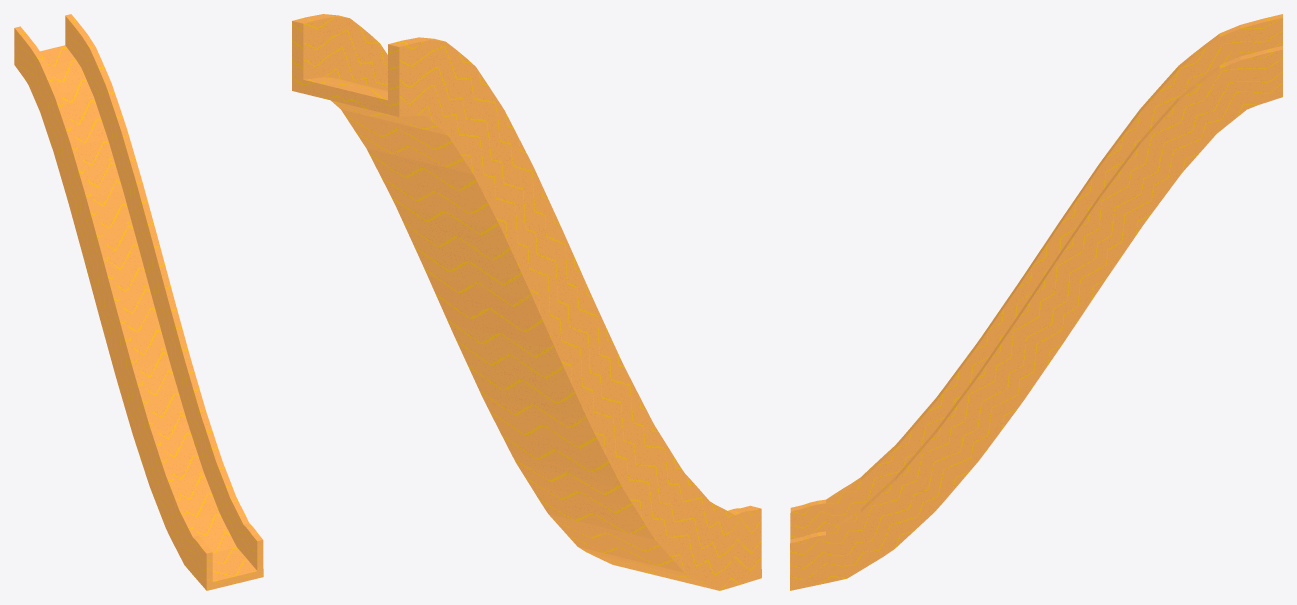
Rendered from rampCurvedSlideTall.glb.
The picture shows the model from 3 angles, left to right: view 1: azimuth 30°, elevation 25°; view 2: azimuth 150°, elevation 25°; view 3: azimuth 270°, elevation 25°; orthographic projection. The views are drawn at different scales.
Parts seen in each view (by area): view 1: rampCurvedSlideTall; view 2: rampCurvedSlideTall; view 3: rampCurvedSlideTall.
Boxes of the visible parts, x1,y1,x2,y2 form: rampCurvedSlideTall: (14, 14, 263, 590); rampCurvedSlideTall: (292, 14, 761, 590); rampCurvedSlideTall: (790, 14, 1282, 590).
Bounding box in the file's own units: 0.5 × 3.55 × 2.93.
Materials: 1 (1 with a texture image).
